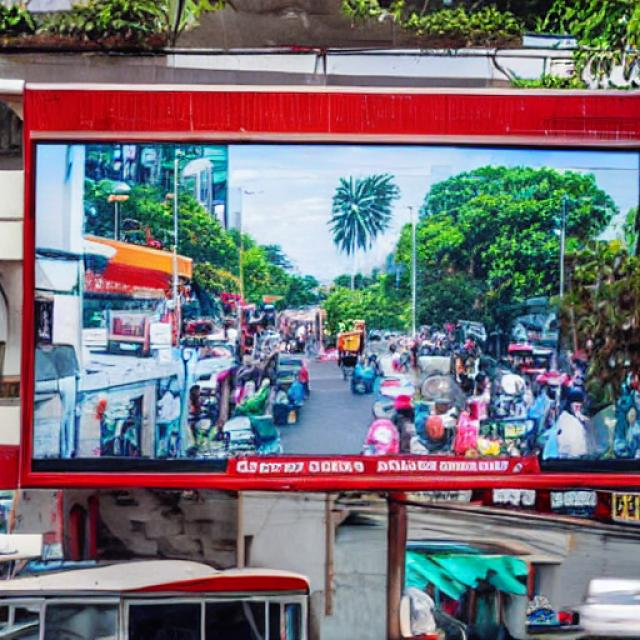Billboard: (18, 88, 640, 484)
